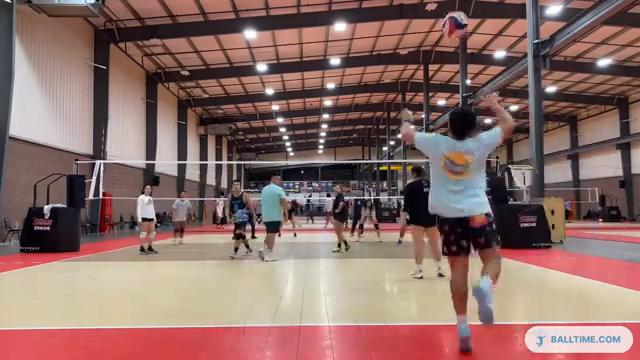Player: (402, 166, 444, 278), (258, 173, 287, 261), (226, 180, 253, 258), (136, 185, 157, 255), (332, 185, 349, 251), (356, 199, 381, 241), (172, 191, 191, 244), (350, 199, 363, 236), (288, 199, 298, 236), (324, 193, 332, 227)
Serve: (396, 86, 516, 354)
ball: (442, 13, 468, 39)
